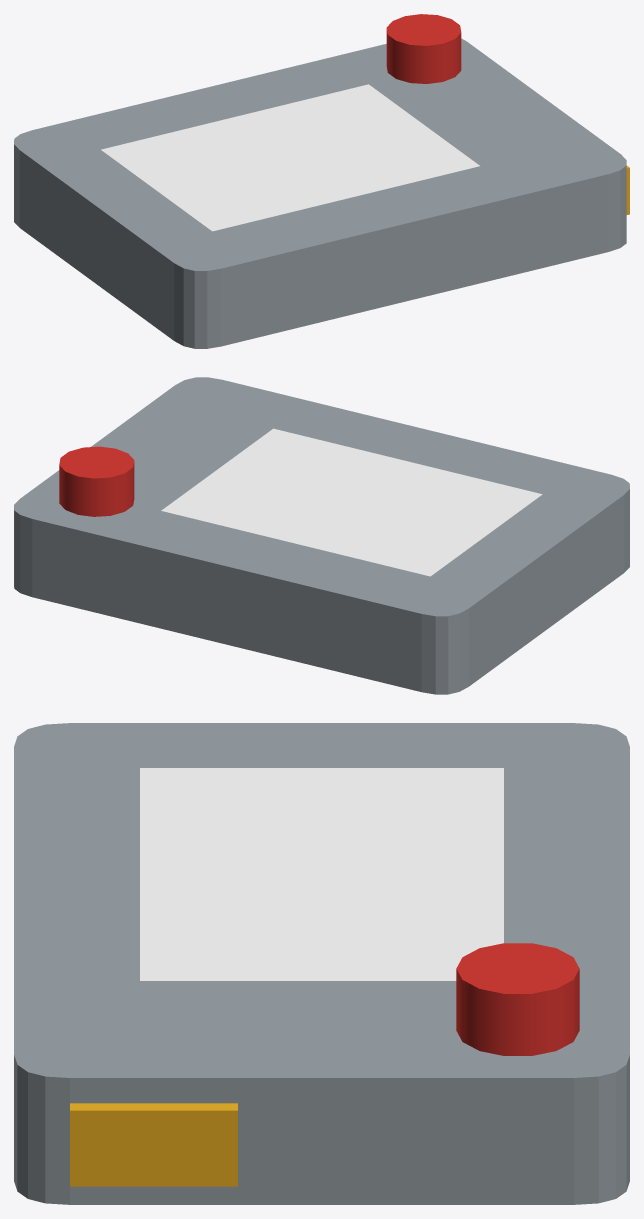
Rendered from toolkit--teachPendant.glb.
3 renders of one model, top to bottom at view 1: azimuth 30°, elevation 25°; view 2: azimuth 150°, elevation 25°; view 3: azimuth 270°, elevation 25°, orthographic. The views are drawn at different scales.
Parts seen in each view (by area): view 1: teachPendant:shell, screen, estop; view 2: teachPendant:shell, screen, estop; view 3: teachPendant:shell, screen, enable, estop.
Part boxes in pixels (<box>): teachPendant:shell: <box>14,38,626,348</box>; screen: <box>101,84,479,231</box>; estop: <box>386,14,461,83</box>; teachPendant:shell: <box>14,377,629,694</box>; screen: <box>161,428,542,576</box>; estop: <box>59,446,134,516</box>; teachPendant:shell: <box>14,723,629,1204</box>; screen: <box>140,768,503,980</box>; enable: <box>70,1103,237,1186</box>; estop: <box>456,943,579,1055</box>.
Bounding box in the file's own units: 0.306 × 0.0745 × 0.22.
